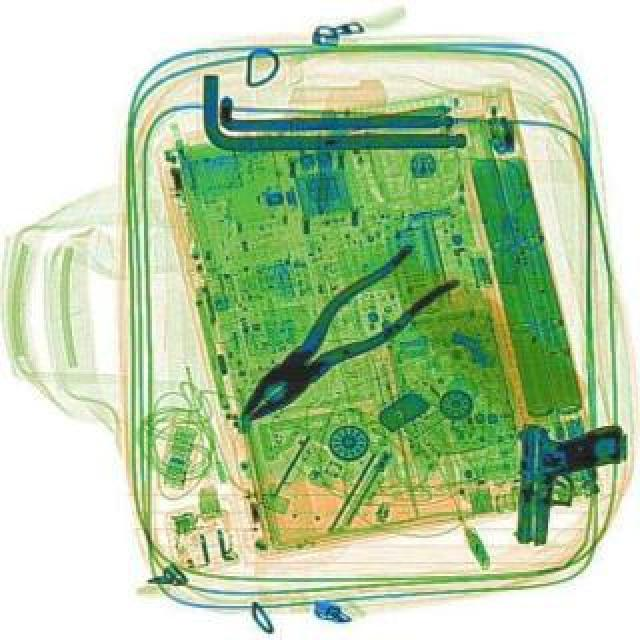gun: (508, 416, 626, 548)
wrench: (212, 232, 458, 444)
